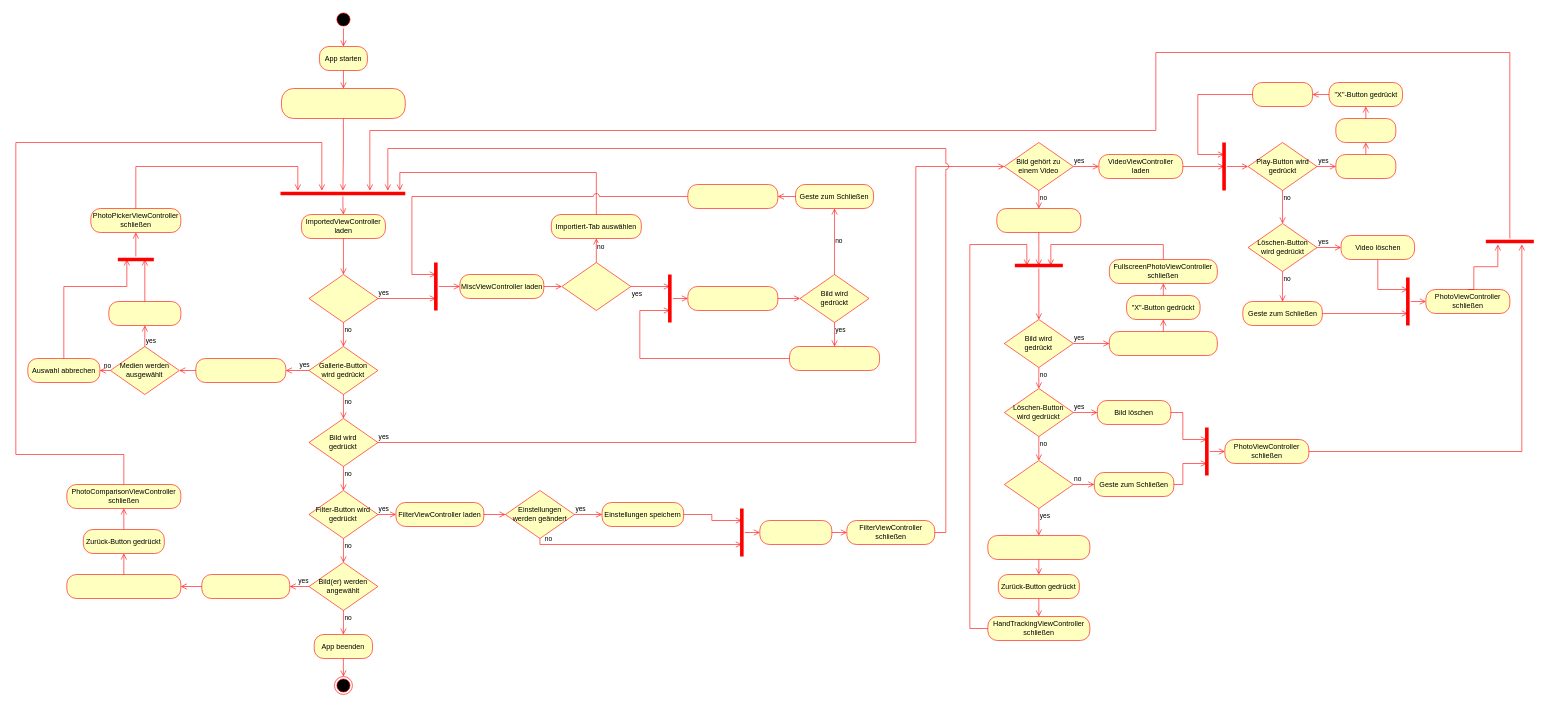
Image size: 1546x705. Some labels were removed from this diagram. The centre of each missing label's shape, as x and y in pixels:
Compare-Button drücken: point 245,586
Element wiederherstellen: point 834,358
Filter-Button drücken: point 795,532
FullscreenPhotoViewController laden: point 1163,343
Handerkennung-Button wird gedrückt: point 1038,484
HandTrackingViewController laden: point 1038,547
Medien importieren: point 144,313
Papierkorb-Button wird gedrückt: point 596,286
PhotoComparisonViewController laden: point 123,586
PhotoPickerViewController laden: point 240,370
PhotoViewController laden: point 1038,220
Sonstiges-Tab wird ausgewählt: point 343,298
Szene mit TabBarViewController als RootViewController erstellen: point 343,103
TrashViewController laden: point 732,298
TrashViewController schließen: point 732,196
Video abspielen: point 1365,130
Video Player laden: point 1365,166
Video Player schließen: point 1282,94
